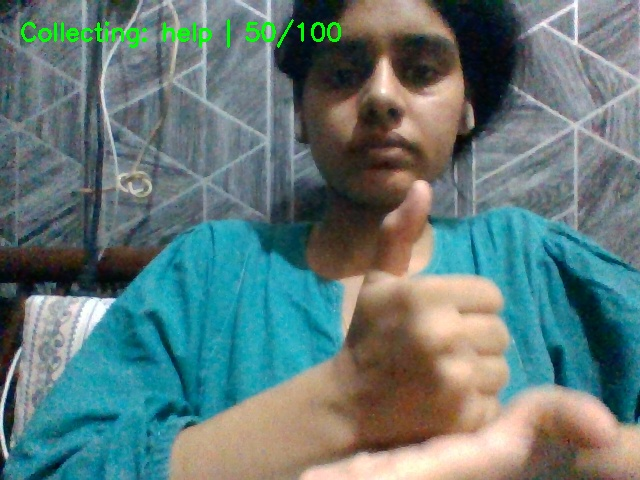help: (293, 177, 625, 478)
